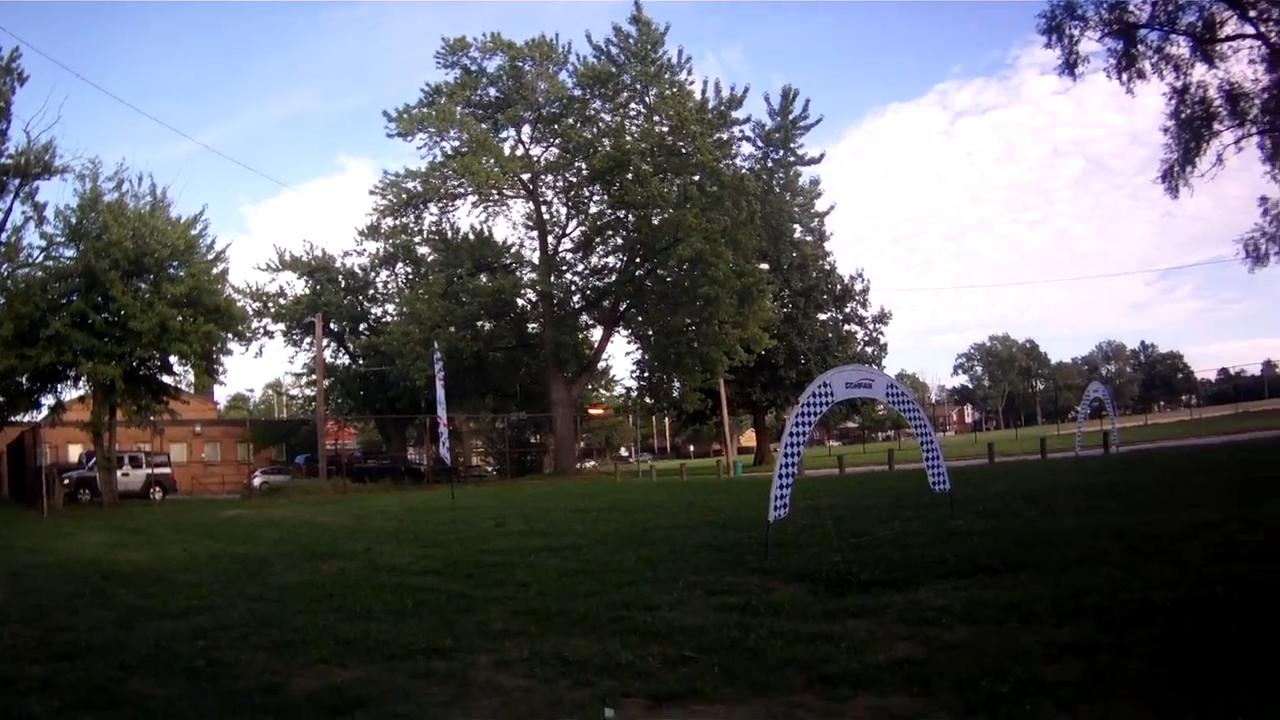gate: (764, 362, 952, 533)
